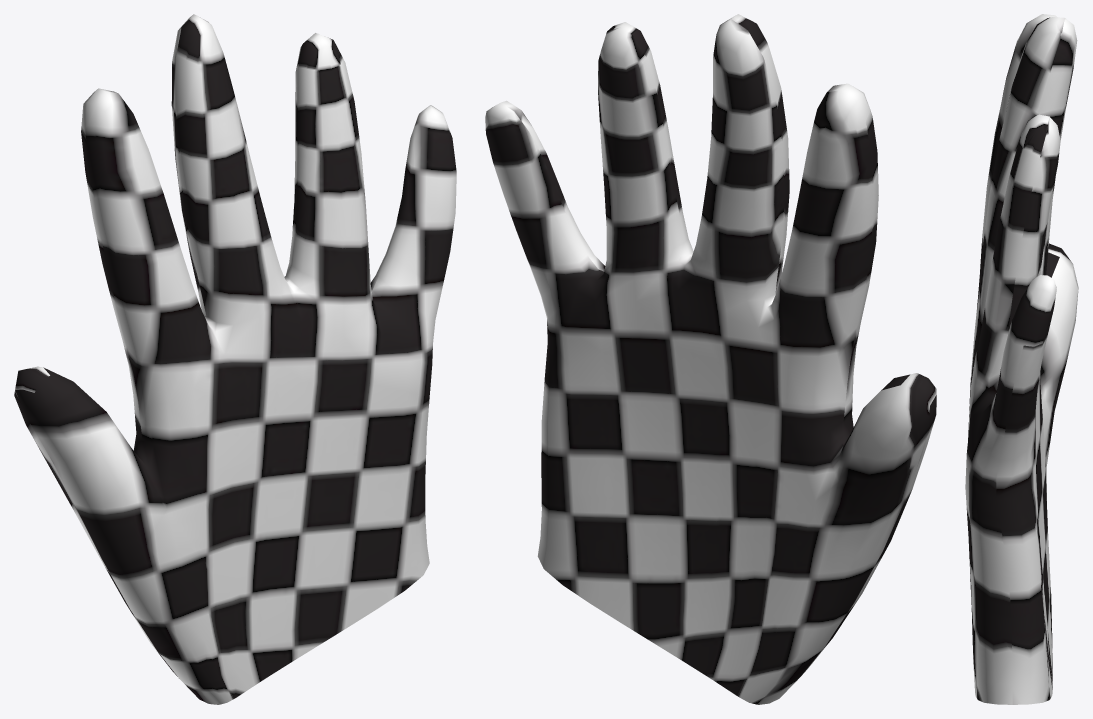
Rendered from Lab3_Hand_v3.fbx.
3 renders of one model, left to right at view 1: azimuth 30°, elevation 25°; view 2: azimuth 150°, elevation 25°; view 3: azimuth 270°, elevation 25°, orthographic. The views are drawn at different scales.
Parts seen in each view (by area): view 1: Cube; view 2: Cube; view 3: Cube.
Boxes of the visible parts, left/top/right/bottom form: Cube: left=14, top=14, right=456, bottom=704; Cube: left=485, top=14, right=936, bottom=704; Cube: left=965, top=14, right=1078, bottom=704.
Size of the model in its own units: 295 by 435 by 66.09.
1 material, 1 textured.
